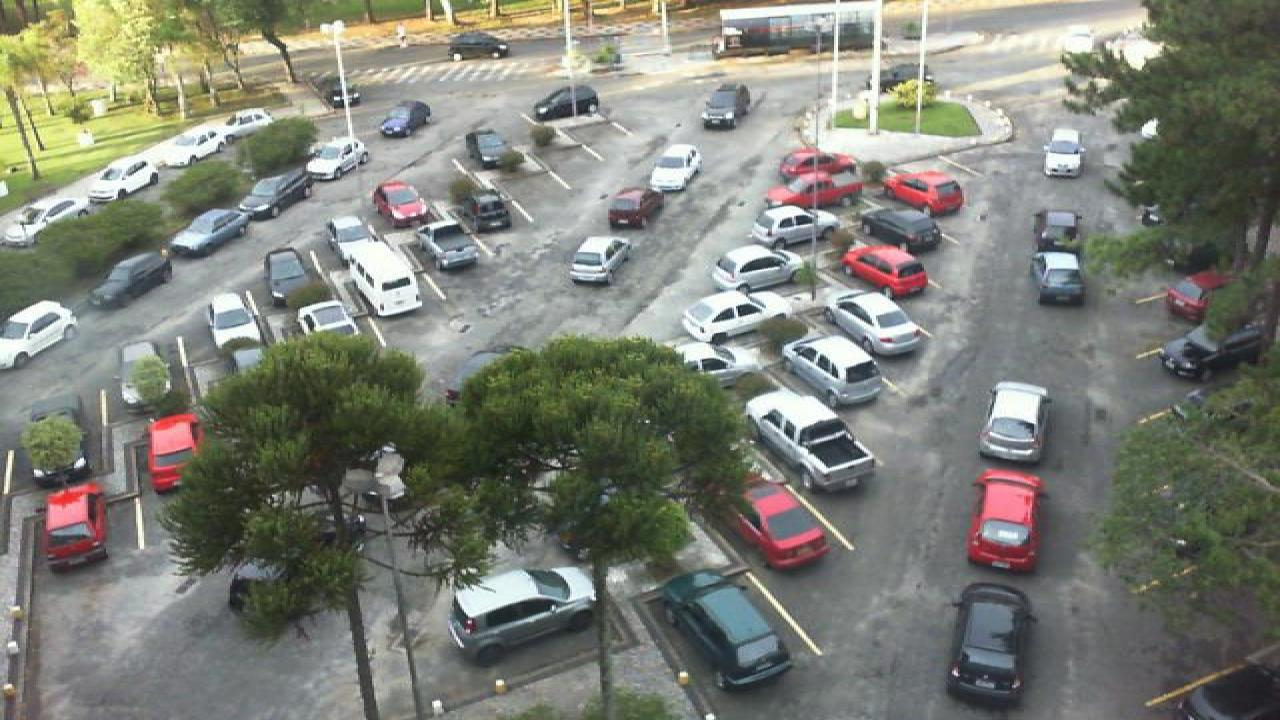Car: (660, 568, 798, 693), (446, 565, 600, 668), (740, 388, 880, 494), (940, 583, 1034, 704), (726, 474, 836, 572), (964, 469, 1048, 572), (778, 331, 888, 408), (820, 287, 930, 357), (1158, 320, 1278, 384), (974, 380, 1054, 466), (340, 240, 424, 320), (678, 287, 790, 344), (38, 482, 110, 570), (0, 298, 82, 374), (88, 250, 172, 312), (26, 413, 92, 489), (840, 244, 932, 297), (710, 245, 804, 295), (144, 414, 202, 494), (166, 207, 254, 258), (746, 205, 838, 251), (222, 176, 314, 221), (118, 354, 182, 418), (204, 290, 268, 354), (860, 207, 946, 254), (884, 169, 968, 217), (412, 219, 484, 274), (670, 340, 752, 388), (1162, 269, 1232, 323), (764, 171, 866, 208), (564, 234, 634, 287), (262, 246, 318, 312), (292, 297, 362, 349), (158, 124, 238, 168), (1030, 251, 1090, 307), (370, 179, 432, 231), (302, 135, 372, 181), (84, 162, 160, 204), (646, 143, 704, 197), (604, 184, 668, 231), (530, 83, 604, 123), (16, 185, 90, 225), (122, 144, 196, 182), (772, 149, 858, 181), (698, 83, 752, 132), (460, 128, 518, 172), (1030, 210, 1086, 255), (1042, 128, 1088, 179), (376, 100, 434, 140), (446, 29, 514, 62), (0, 204, 48, 250), (462, 191, 514, 233), (210, 109, 278, 141), (312, 73, 364, 108), (324, 215, 372, 252)
